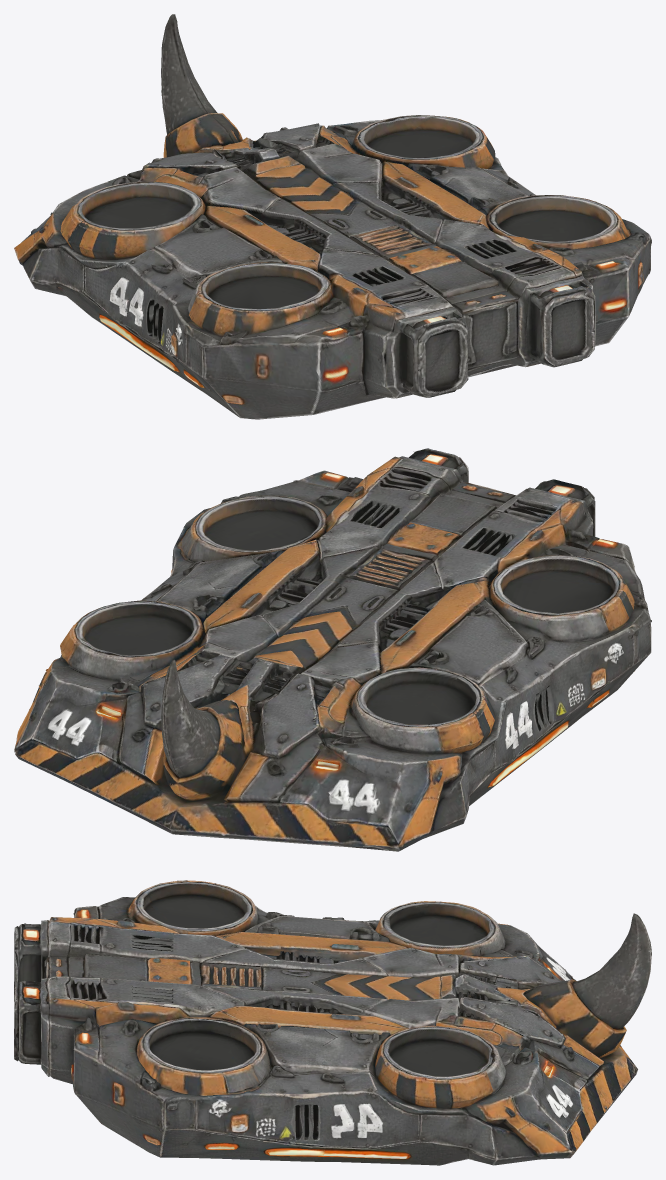
Rendered from drone-badak.glb.
3 renders of one model, top to bottom at view 1: azimuth 30°, elevation 25°; view 2: azimuth 150°, elevation 25°; view 3: azimuth 270°, elevation 25°, orthographic. The views are drawn at different scales.
Parts seen in each view (by area): view 1: drone-badak; view 2: drone-badak; view 3: drone-badak.
Part boxes in pixels (box(x1,y1,x2,y2)): drone-badak: box(14, 14, 651, 419); drone-badak: box(14, 448, 651, 851); drone-badak: box(14, 880, 651, 1165).
Size of the model in its own units: 2.4 by 0.9129 by 3.16.
Materials: 1 (1 with a texture image).
